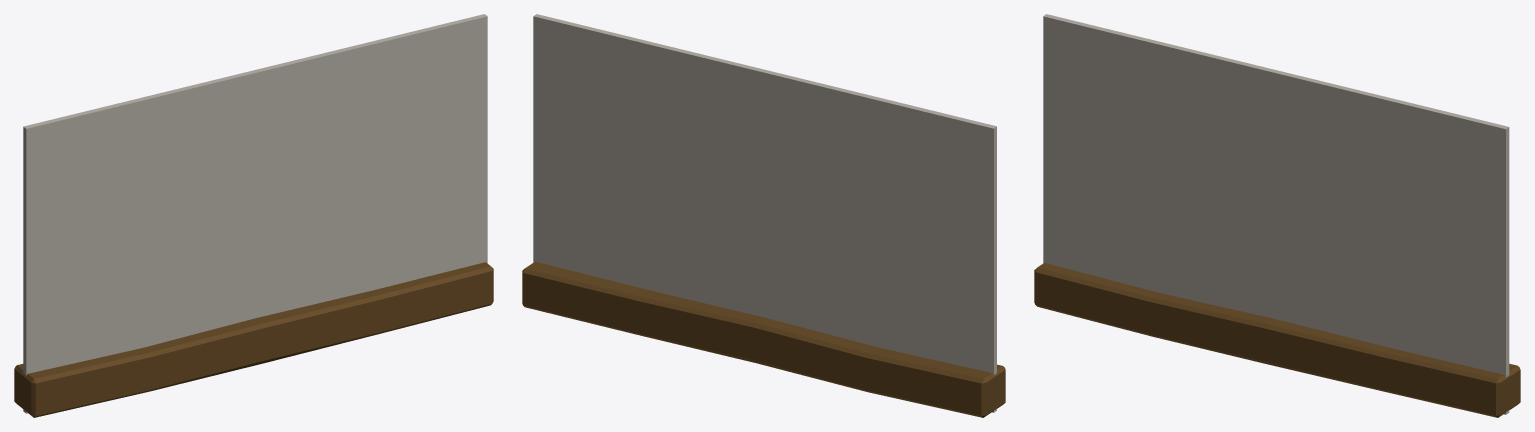
File: Wall_12.fbx
3 views of the same model, side by side, from view 1: azimuth 30°, elevation 25°; view 2: azimuth 150°, elevation 25°; view 3: azimuth 330°, elevation 25° (orthographic).
Visible parts, largest first — view 1: Wall_12; view 2: Wall_12; view 3: Wall_12.
Part boxes in pixels (bbox=[...]): Wall_12: bbox=[14, 14, 493, 417]; Wall_12: bbox=[522, 14, 1005, 417]; Wall_12: bbox=[1034, 14, 1520, 417].
Bounding box in the file's own units: 4.76 × 2.8 × 0.4192.
